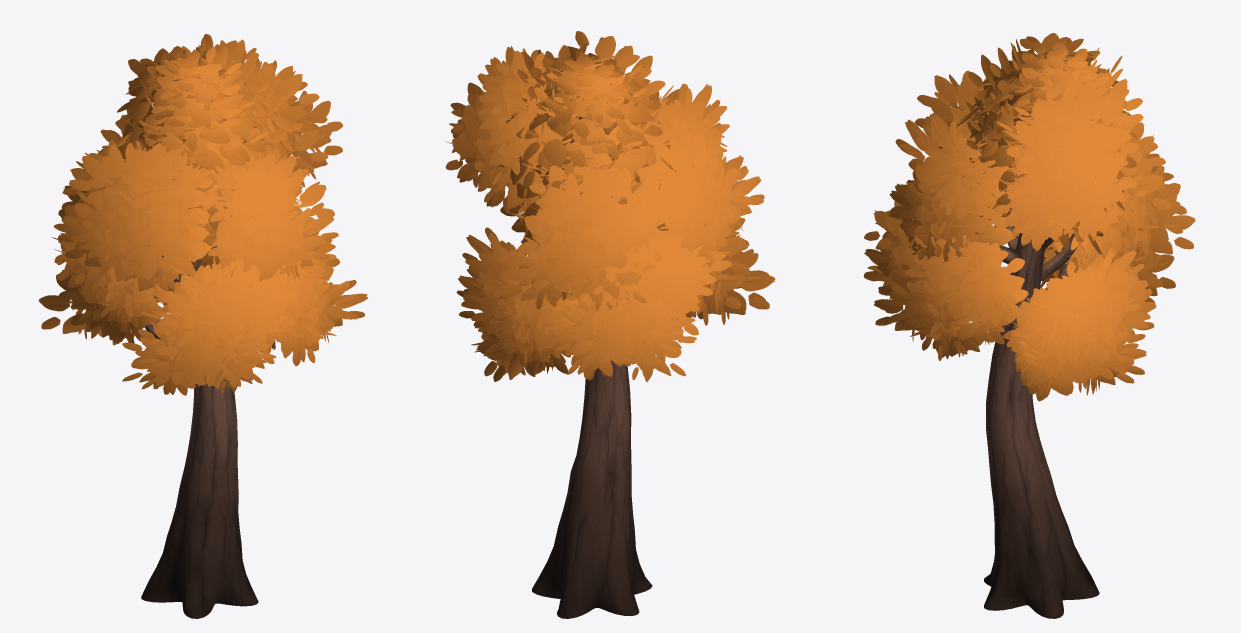
File: CommonTree_1_Outono.gltf
3 renders of one model, left to right at view 1: azimuth 30°, elevation 25°; view 2: azimuth 150°, elevation 25°; view 3: azimuth 270°, elevation 25°, orthographic. The views are drawn at different scales.
Parts seen in each view (by area): view 1: CommonTree_1; view 2: CommonTree_1; view 3: CommonTree_1.
Part boxes in pixels (x1,y1,x2,y2): CommonTree_1: (38,34,367,618); CommonTree_1: (445,31,775,618); CommonTree_1: (863,33,1196,618).
Size of the model in its own units: 4.31 by 7.26 by 4.58.
2 materials, 2 textured.
